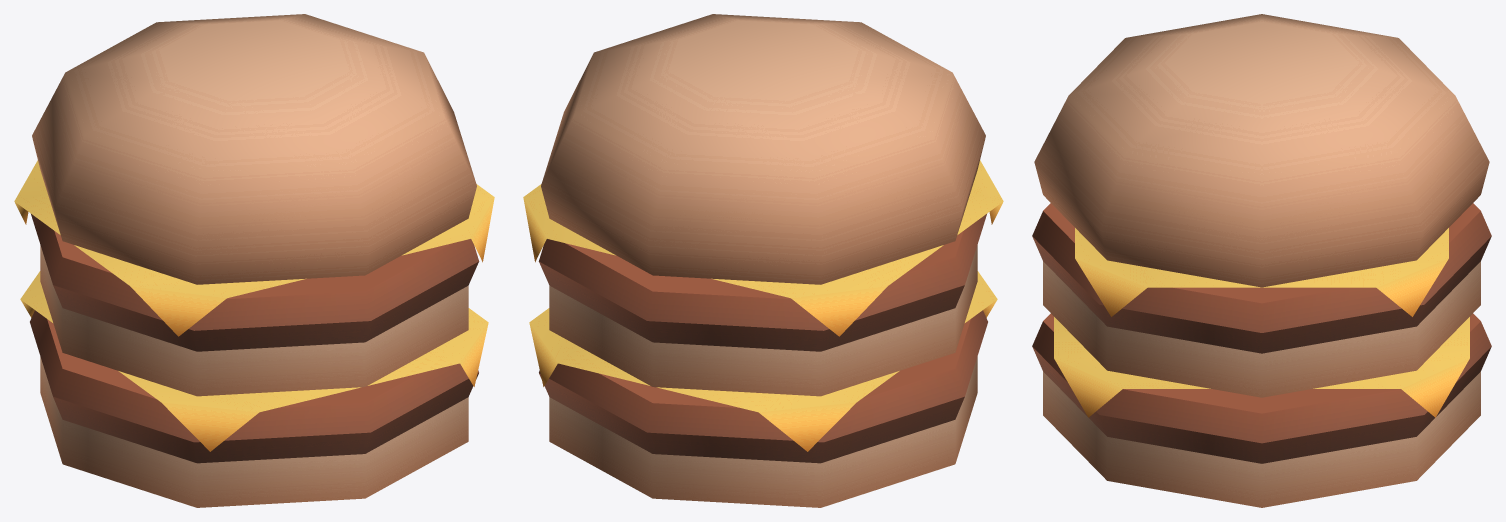
Rendered from burger-cheese-double.glb.
3 views of the same model, side by side, from view 1: azimuth 30°, elevation 25°; view 2: azimuth 150°, elevation 25°; view 3: azimuth 270°, elevation 25° (orthographic).
Parts seen in each view (by area): view 1: bun-top, patty (×2), bun-middle, bun-bottom, cheese (×2); view 2: bun-top, patty (×2), bun-middle, bun-bottom, cheese (×2); view 3: bun-top, patty (×2), bun-middle, bun-bottom, cheese (×2).
Boxes of the visible parts, left/top/right/bottom form: bun-top: left=32, top=14, right=476, bottom=284; patty (×2): left=30, top=214, right=479, bottom=463; bun-middle: left=40, top=245, right=468, bottom=396; bun-bottom: left=40, top=357, right=468, bottom=507; cheese (×2): left=14, top=160, right=494, bottom=451; bun-top: left=541, top=14, right=985, bottom=284; patty (×2): left=538, top=214, right=987, bottom=463; bun-middle: left=549, top=245, right=977, bottom=396; bun-bottom: left=549, top=357, right=977, bottom=507; cheese (×2): left=523, top=160, right=1003, bottom=451; bun-top: left=1034, top=14, right=1489, bottom=287; patty (×2): left=1032, top=203, right=1491, bottom=463; bun-middle: left=1043, top=261, right=1480, bottom=397; bun-bottom: left=1043, top=371, right=1480, bottom=507; cheese (×2): left=1054, top=228, right=1469, bottom=417.
Size of the model in its own units: 0.378 by 0.32 by 0.378.
1 material, 1 textured.
